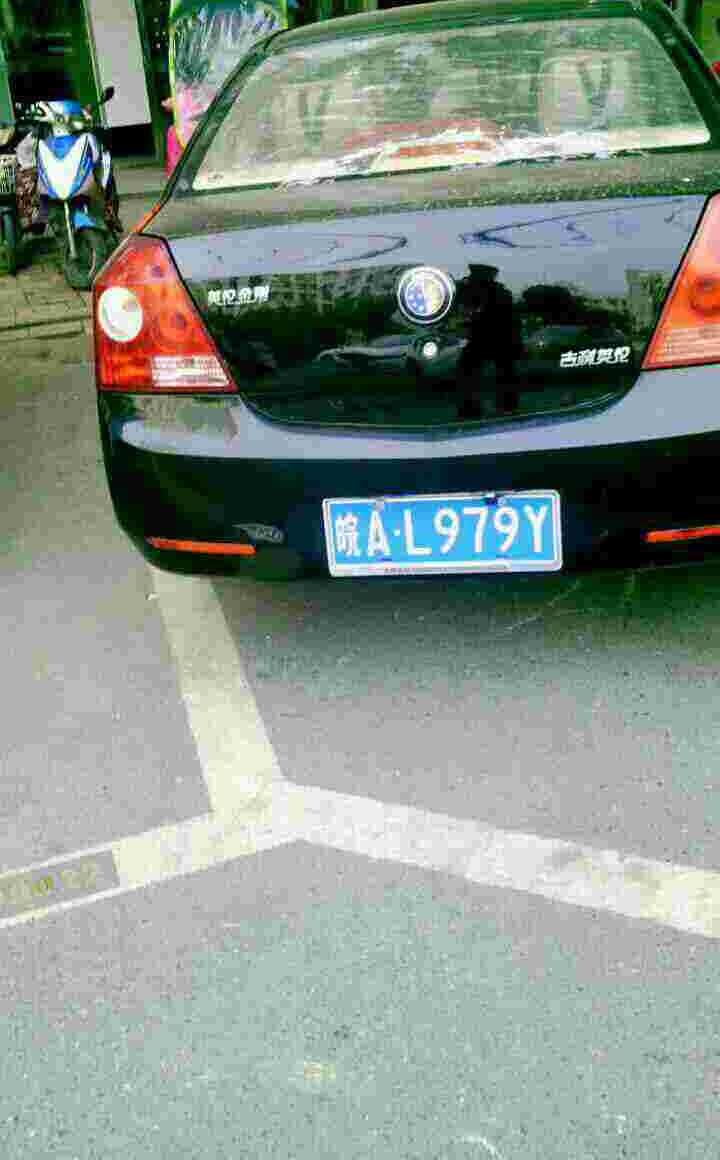license_plate: (336, 492, 559, 572)
